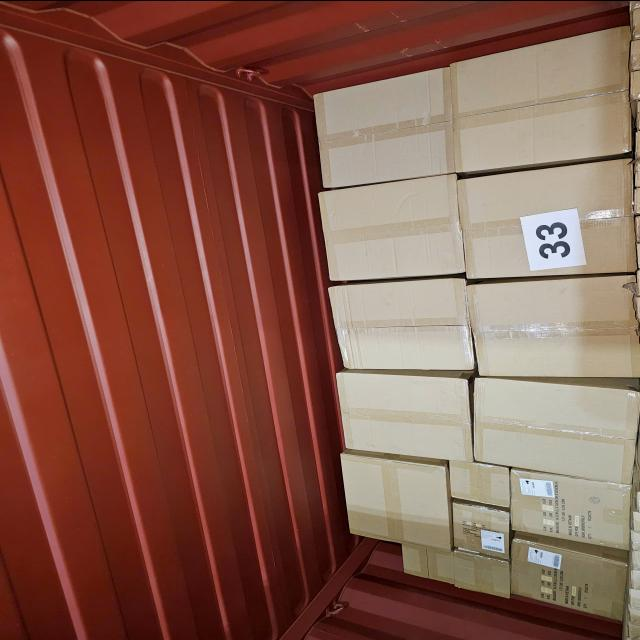Carton: (451, 33, 636, 163), (457, 161, 636, 274), (468, 277, 638, 378), (470, 374, 640, 471), (320, 72, 460, 186), (320, 176, 462, 276), (327, 281, 474, 371), (508, 536, 630, 632), (340, 371, 470, 460), (350, 452, 456, 544), (509, 472, 632, 540), (454, 502, 512, 556), (451, 548, 513, 598), (452, 463, 514, 504), (400, 540, 454, 584)
